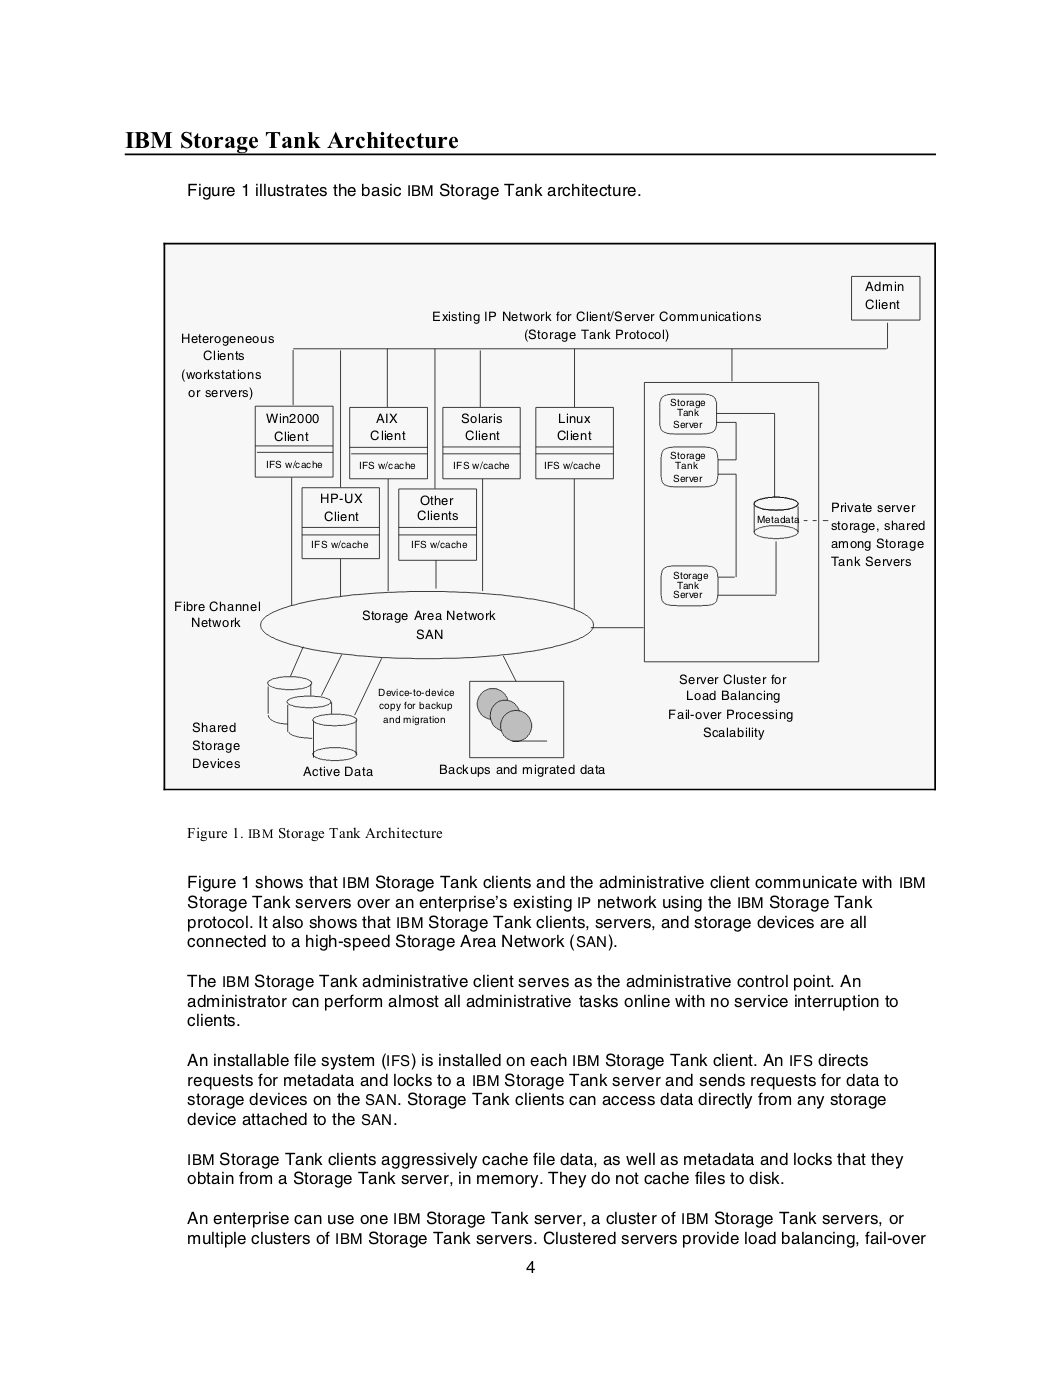figure: (163, 241, 935, 791)
